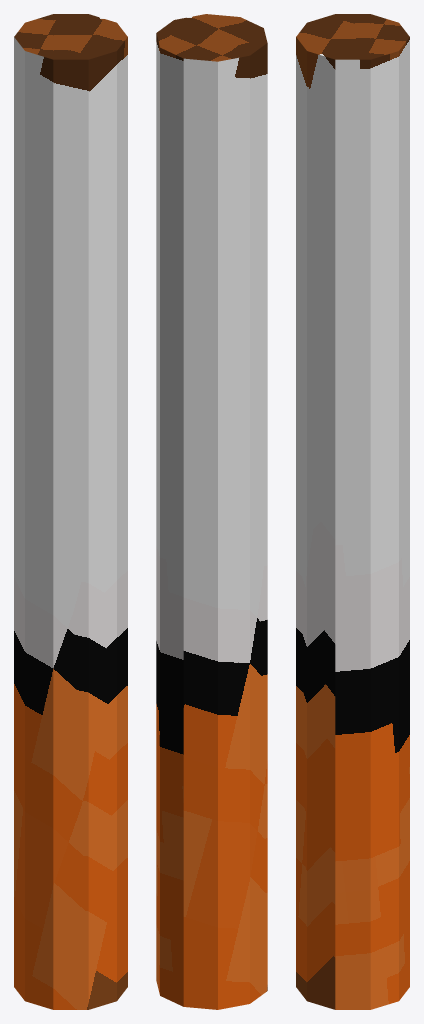
Rendered from cigarette.glb.
The picture shows the model from 3 angles, left to right: view 1: azimuth 90°, elevation 25°; view 2: azimuth 150°, elevation 25°; view 3: azimuth 270°, elevation 25°; orthographic projection.
Visible parts, largest first — view 1: cigarette; view 2: cigarette; view 3: cigarette.
Boxes of the visible parts, x1,y1,x2,y2 form: cigarette: (14, 14, 127, 1009); cigarette: (156, 14, 267, 1009); cigarette: (296, 14, 409, 1009).
Size of the model in its own units: 0.0466 by 0.4513 by 0.049.
1 material, 1 textured.
